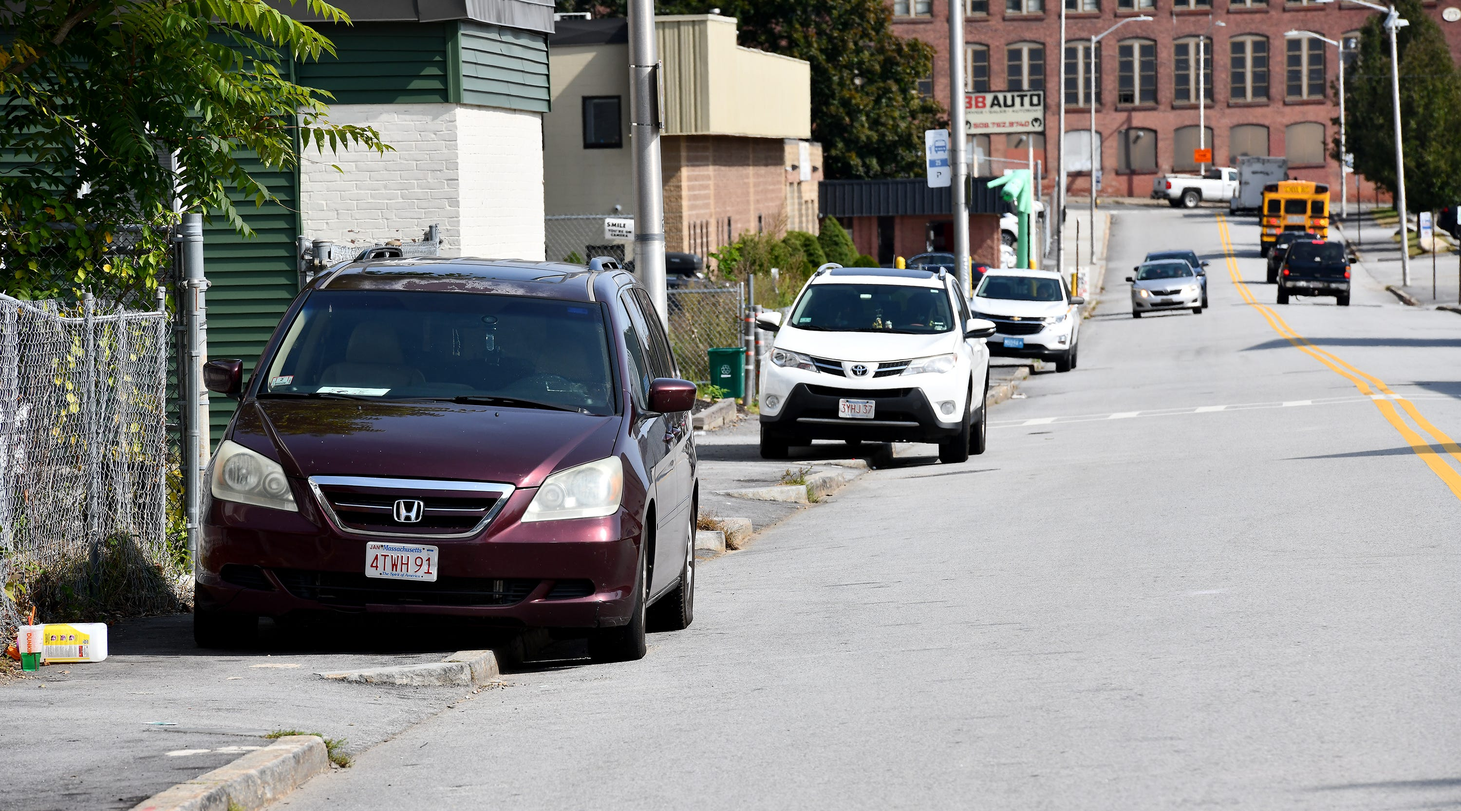Car: (209, 244, 713, 664), (752, 250, 1011, 474), (975, 250, 1093, 375), (1271, 235, 1364, 317), (1121, 253, 1216, 313)
